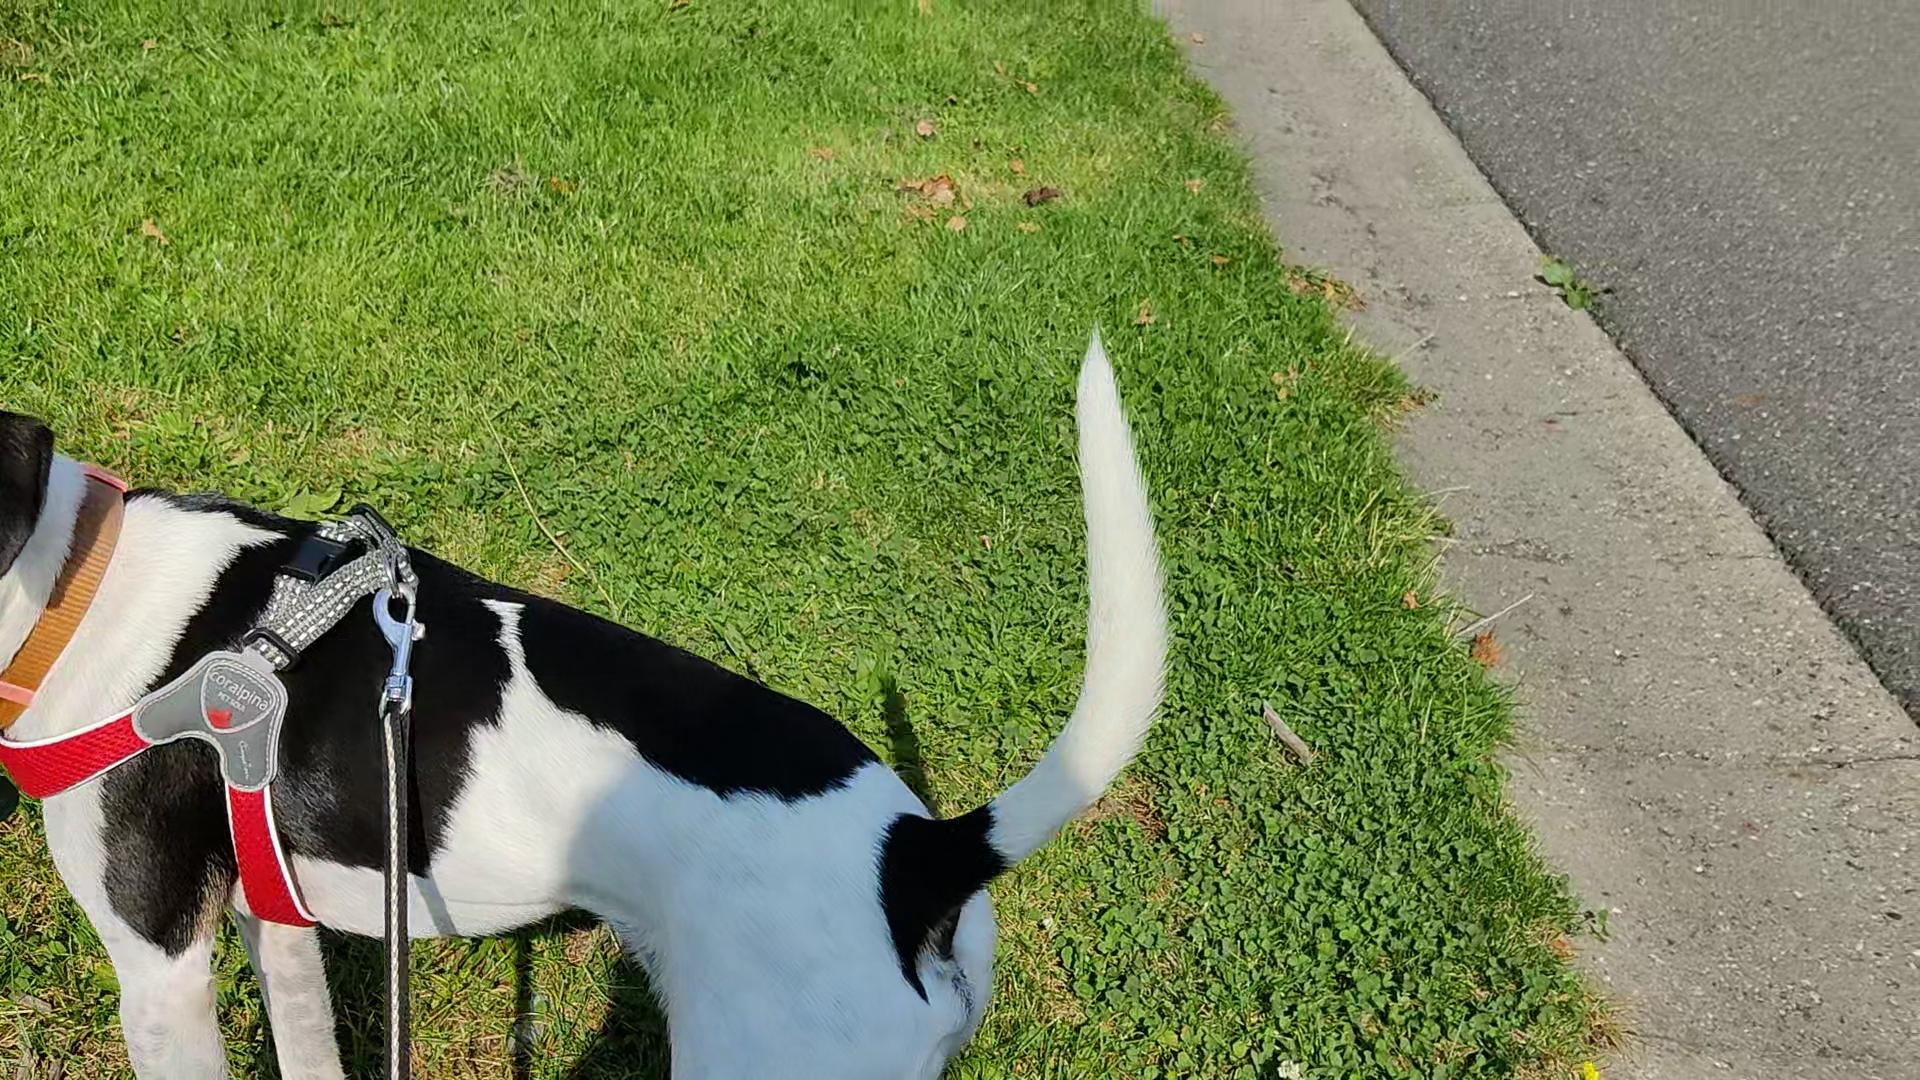Dog: (0, 306, 1197, 1079)
